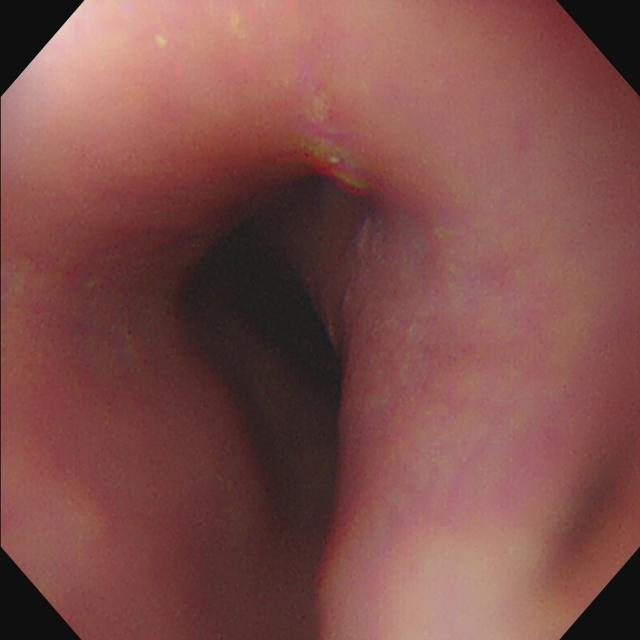E: (207, 206, 337, 491)
